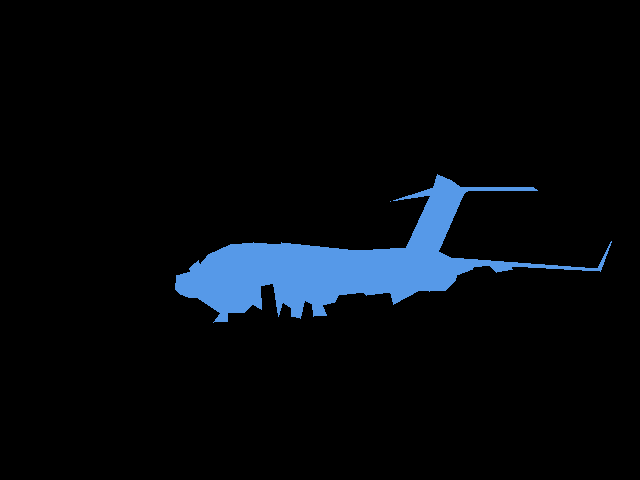Airplane: (175, 174, 612, 322)
